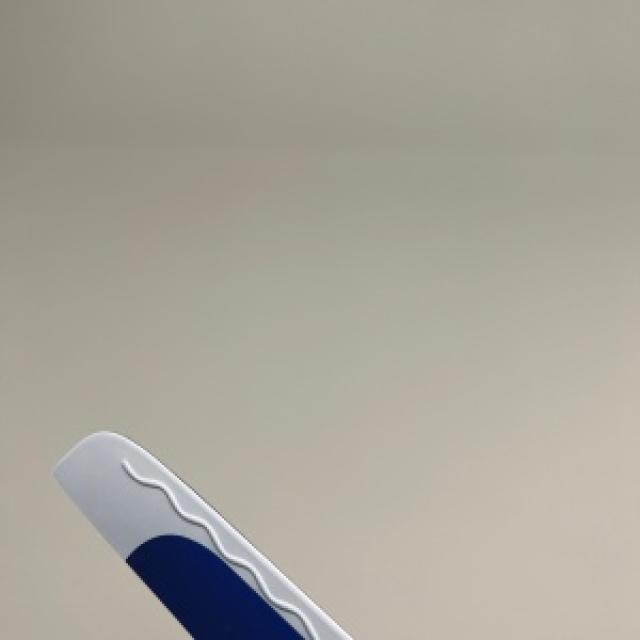healthy: (51, 429, 350, 638)
